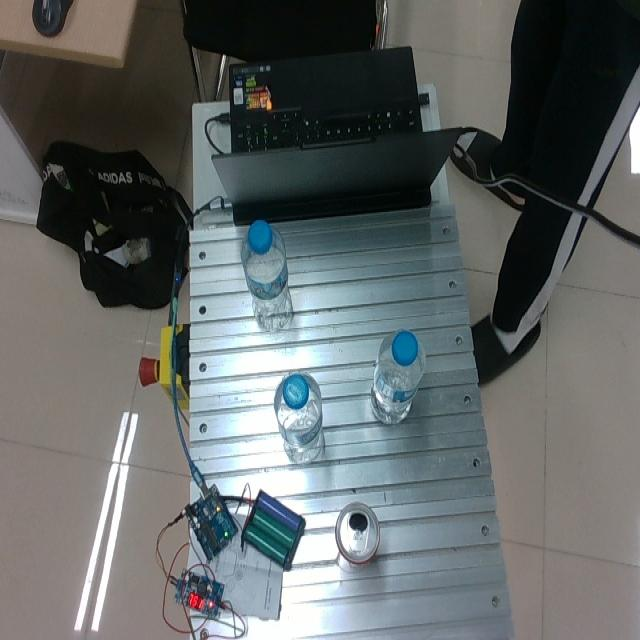coca: (334, 500, 380, 568)
lavie: (241, 220, 293, 332), (370, 329, 425, 424), (274, 370, 323, 462)
